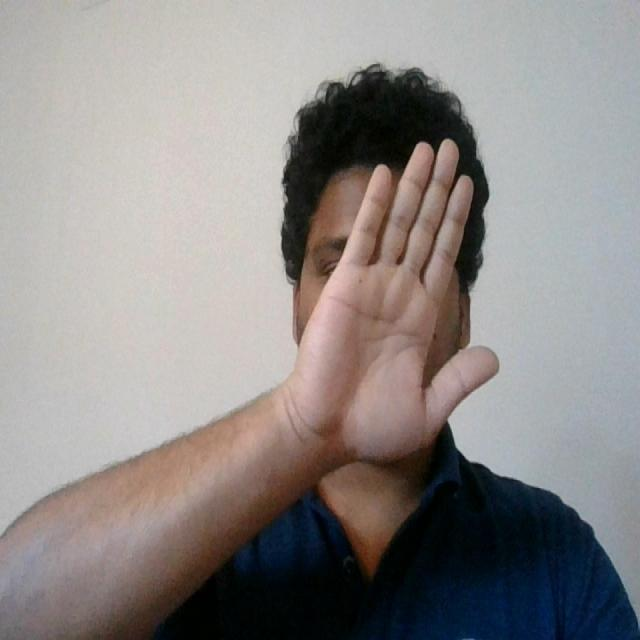Hello: (282, 130, 504, 472)
